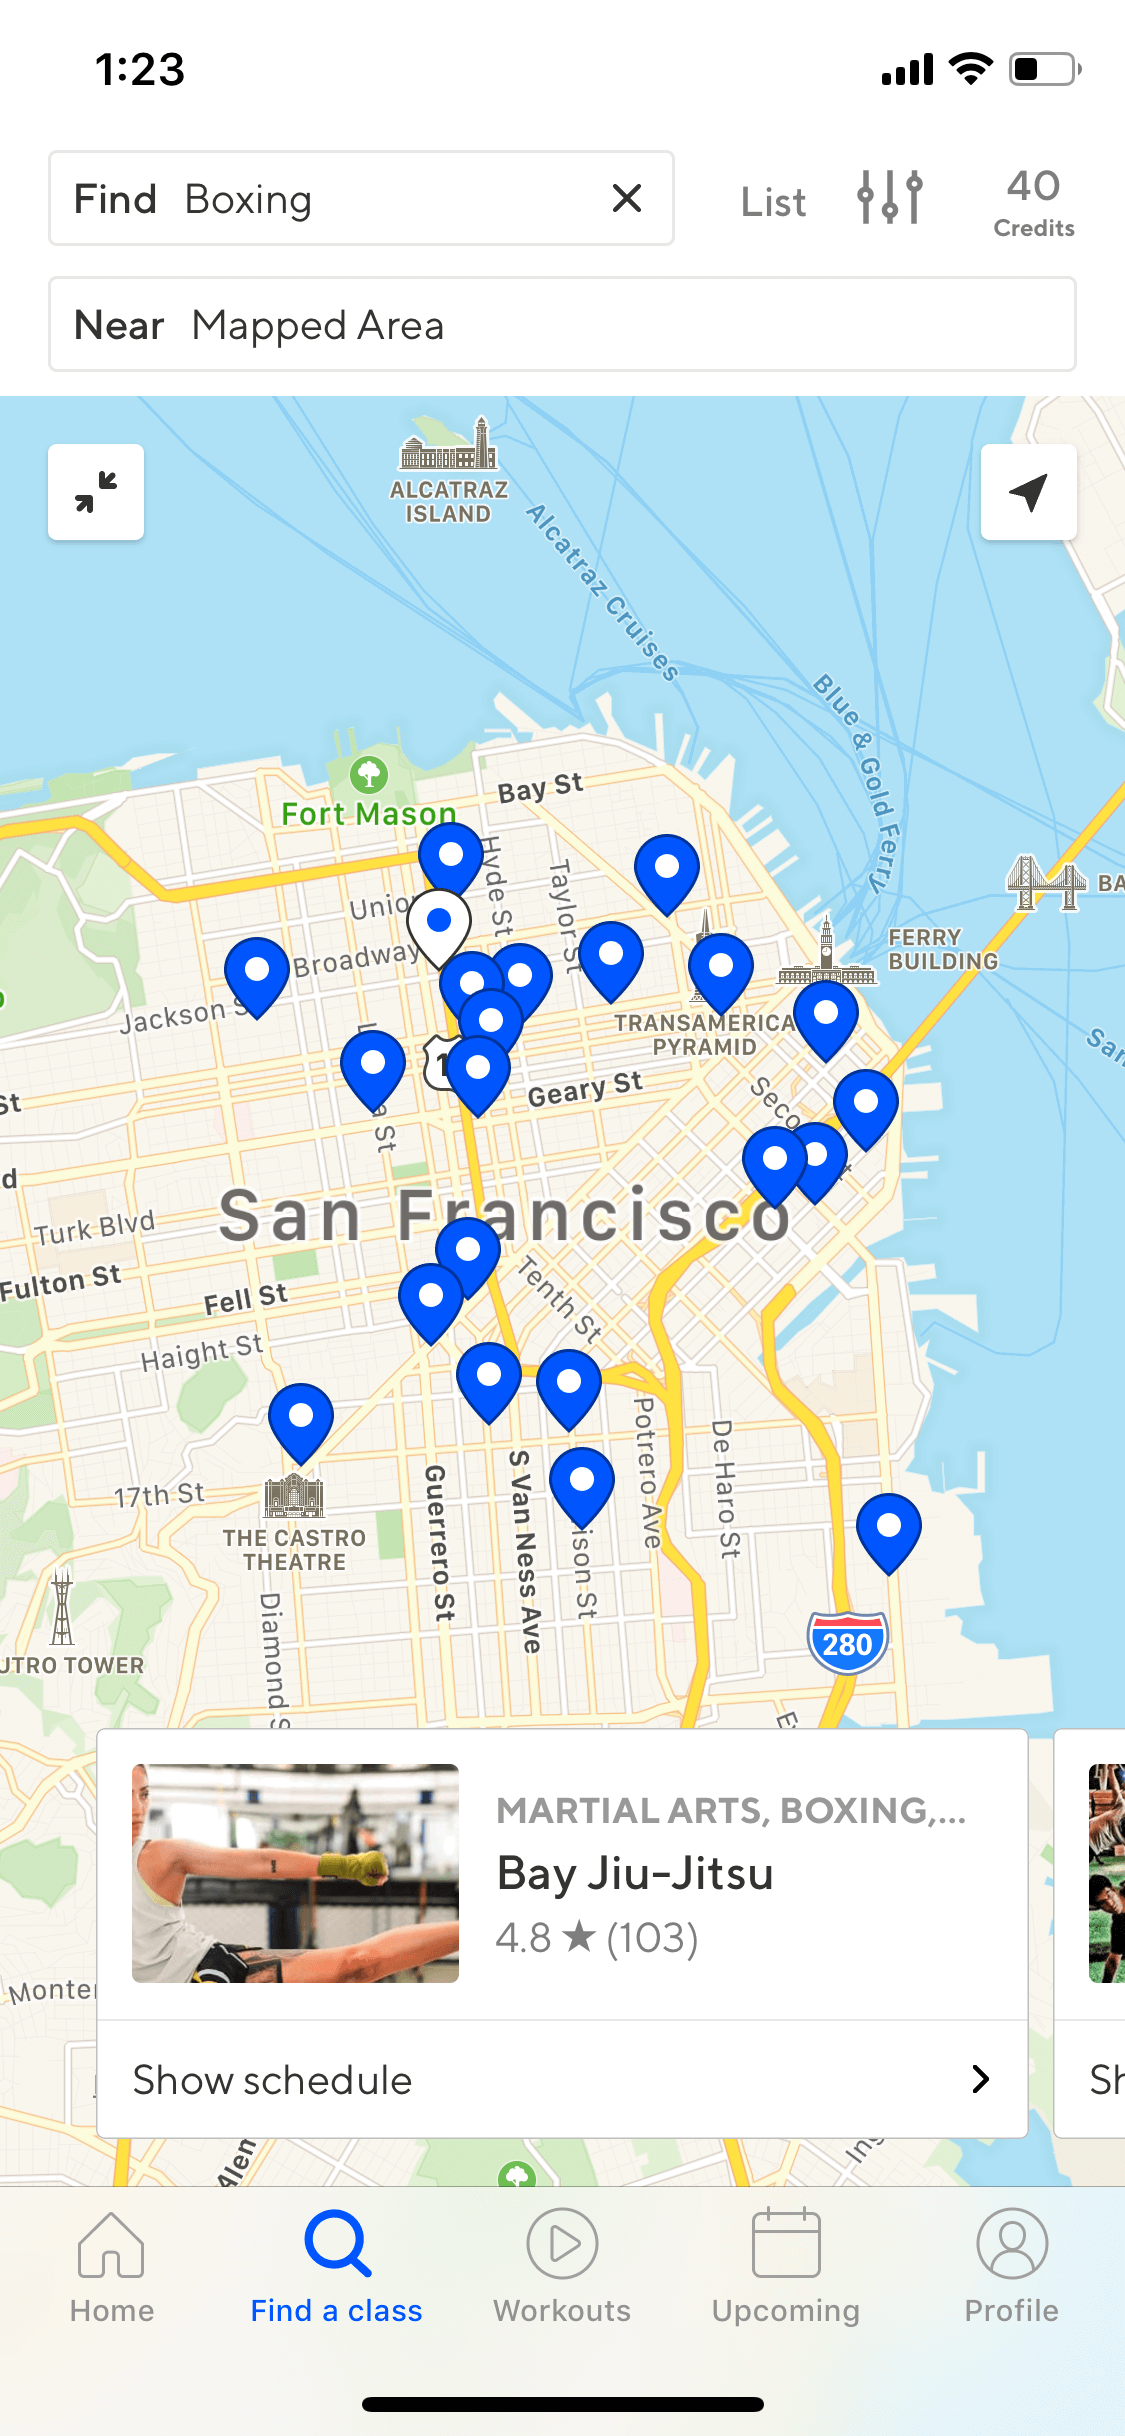Buttons: (963, 138, 1102, 253), (841, 137, 954, 258), (716, 140, 833, 253)
FAB (Floating Action Button): (33, 421, 165, 559), (968, 424, 1095, 556)
